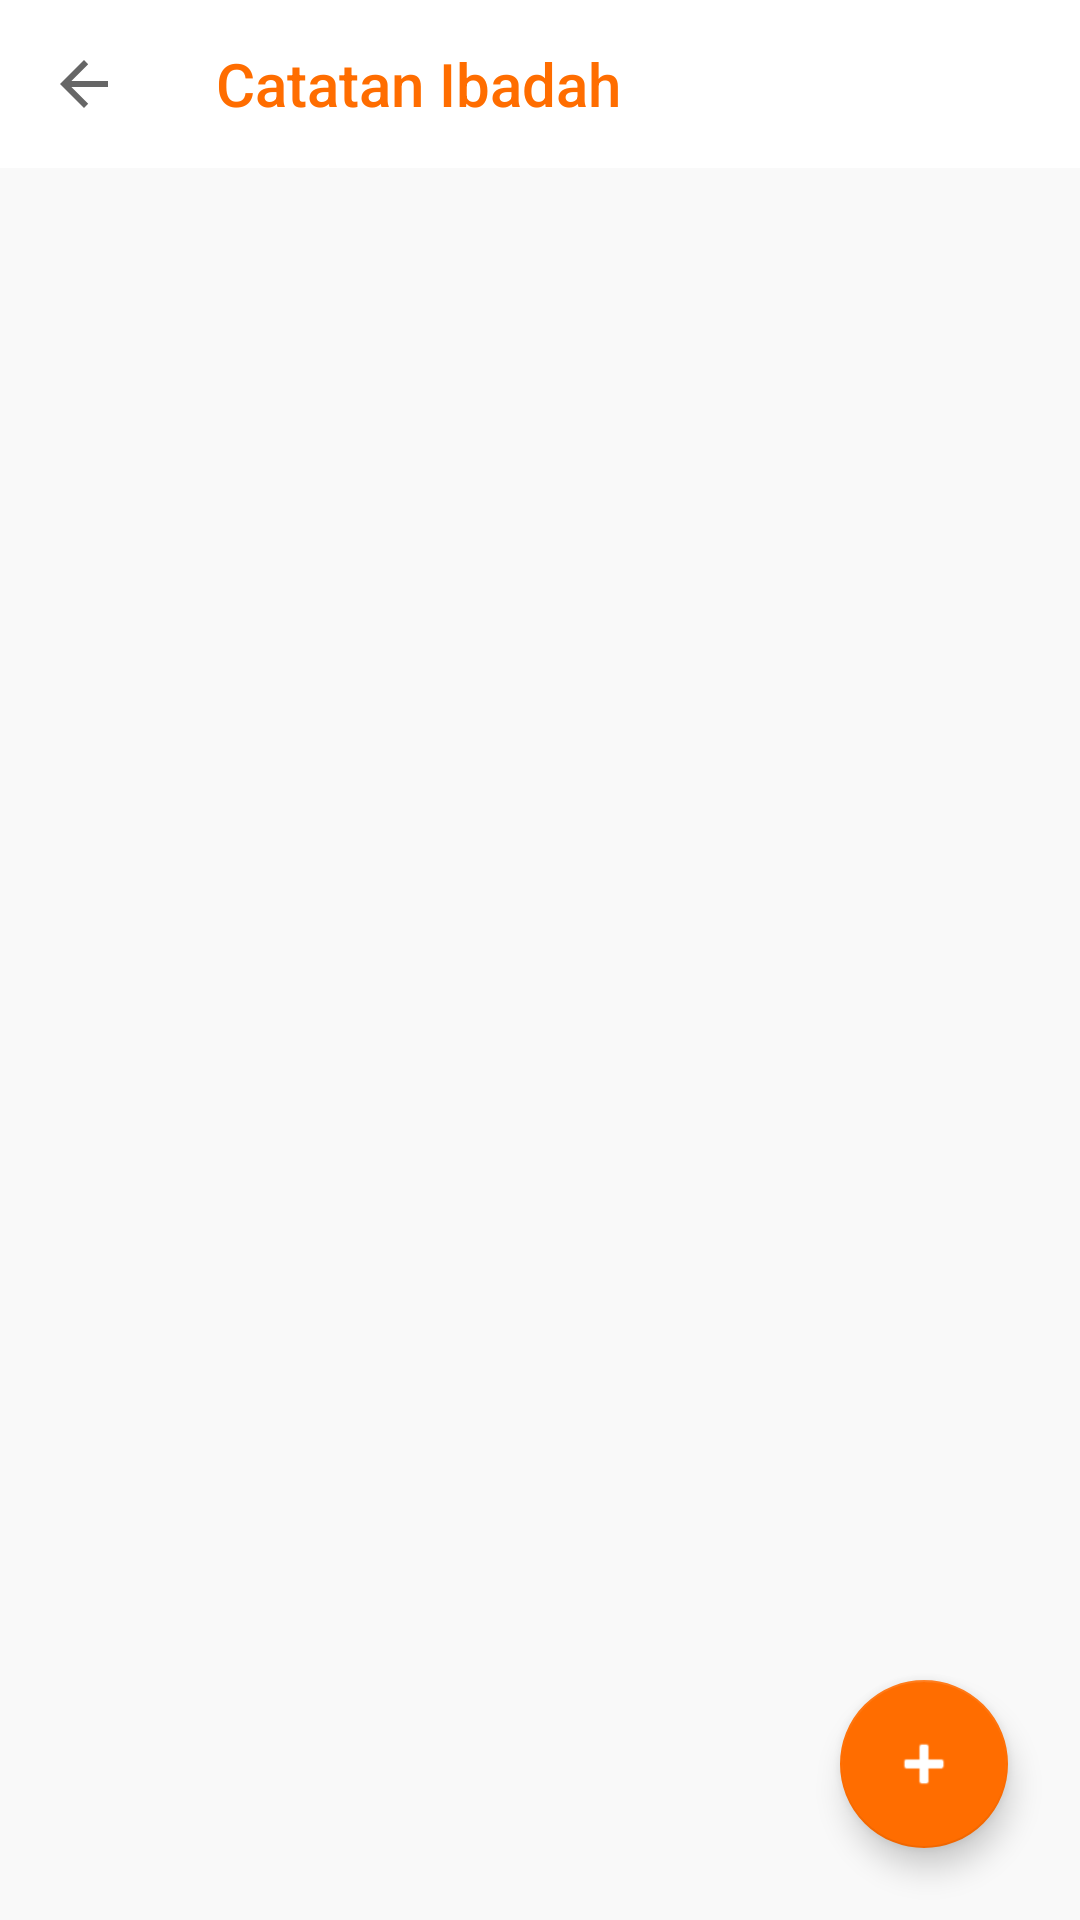

Icons on this 1080 × 1920 Android screen, each with its box as (x1, y1, x2, y2):
Add Note: (840, 1680, 1008, 1848)
